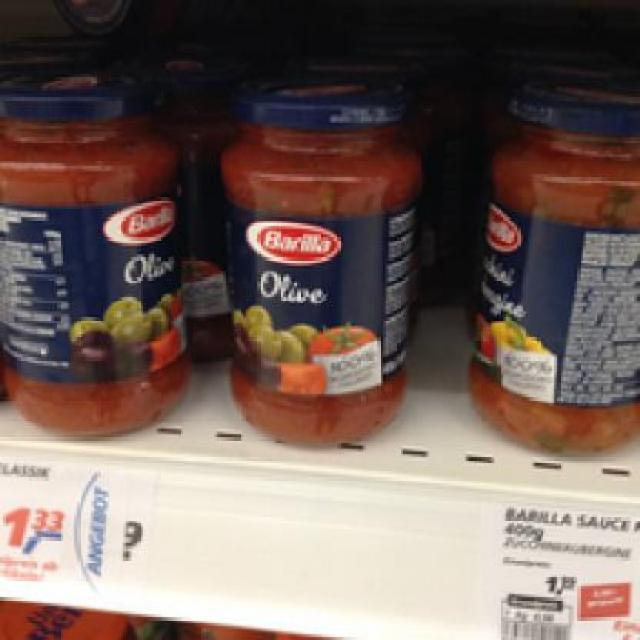Tomato Sauce: (214, 80, 420, 446), (0, 65, 189, 438), (465, 82, 638, 455)
